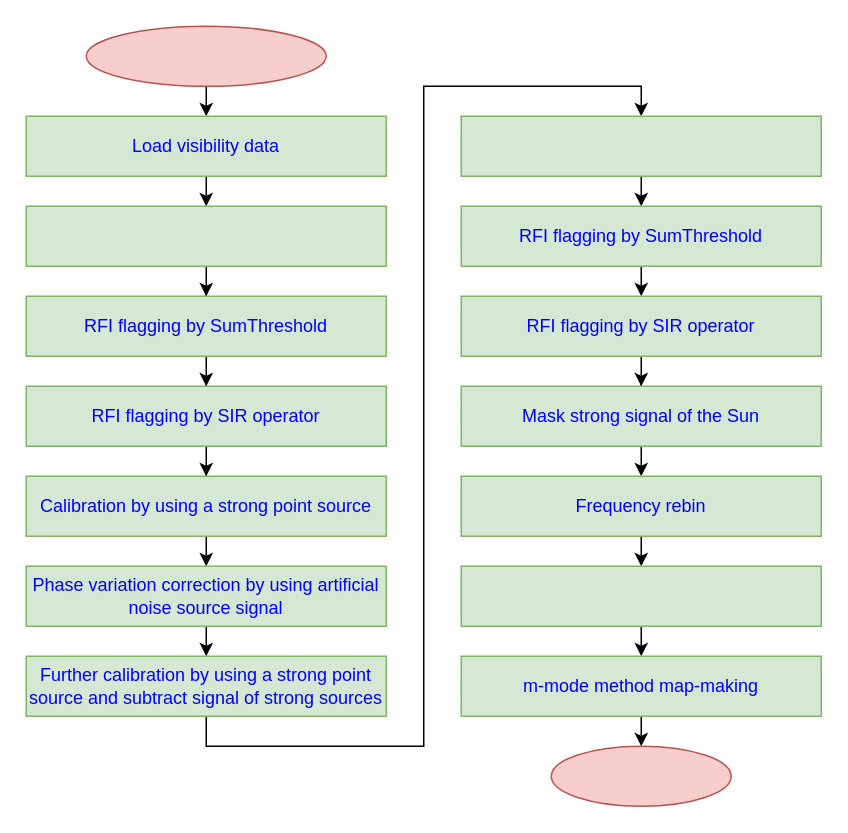
Image size: 848x833. Some labels were removed from this diagram. The shapes that lost their labels are listed below. From the top down, each one's centre as x and y in pixels, then its label:
At pixel 205 55: "Raw visibility data".
At pixel 640 145: "Nighttime mean subtraction and coupling correction".
At pixel 205 235: "Detect artificial noise source signal".
At pixel 640 595: "Local sidereal time (LST) binning".
At pixel 640 775: "Sky map".
